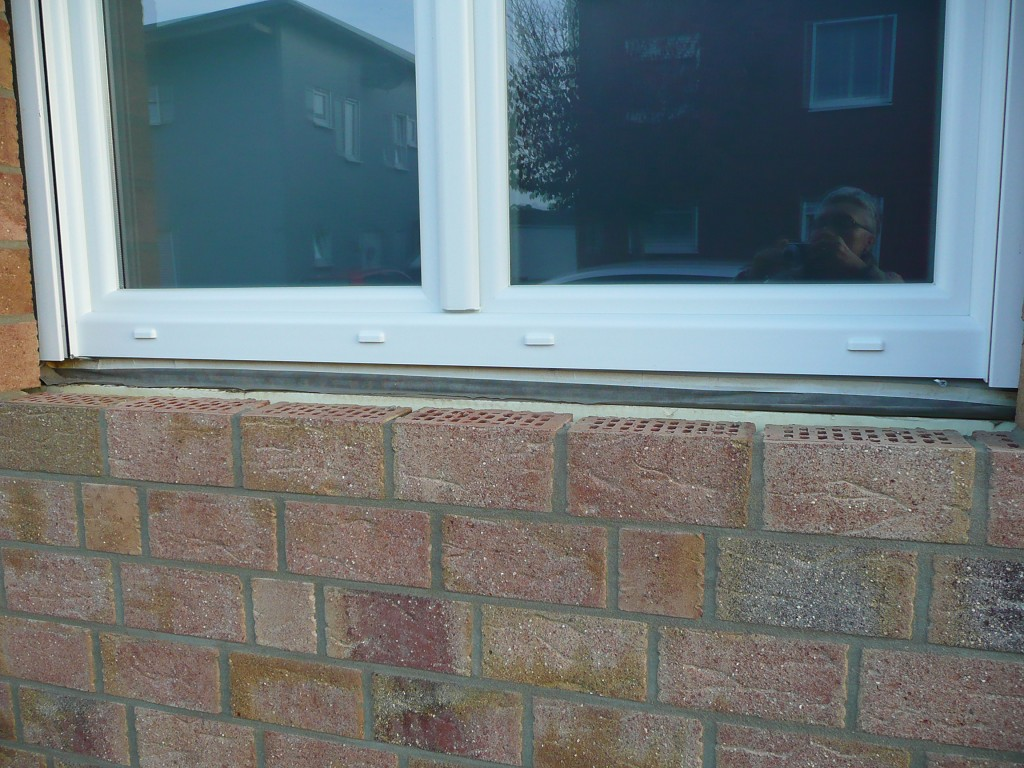windows: (14, 1, 1024, 412), (4, 1, 449, 221), (1008, 401, 1010, 412)
